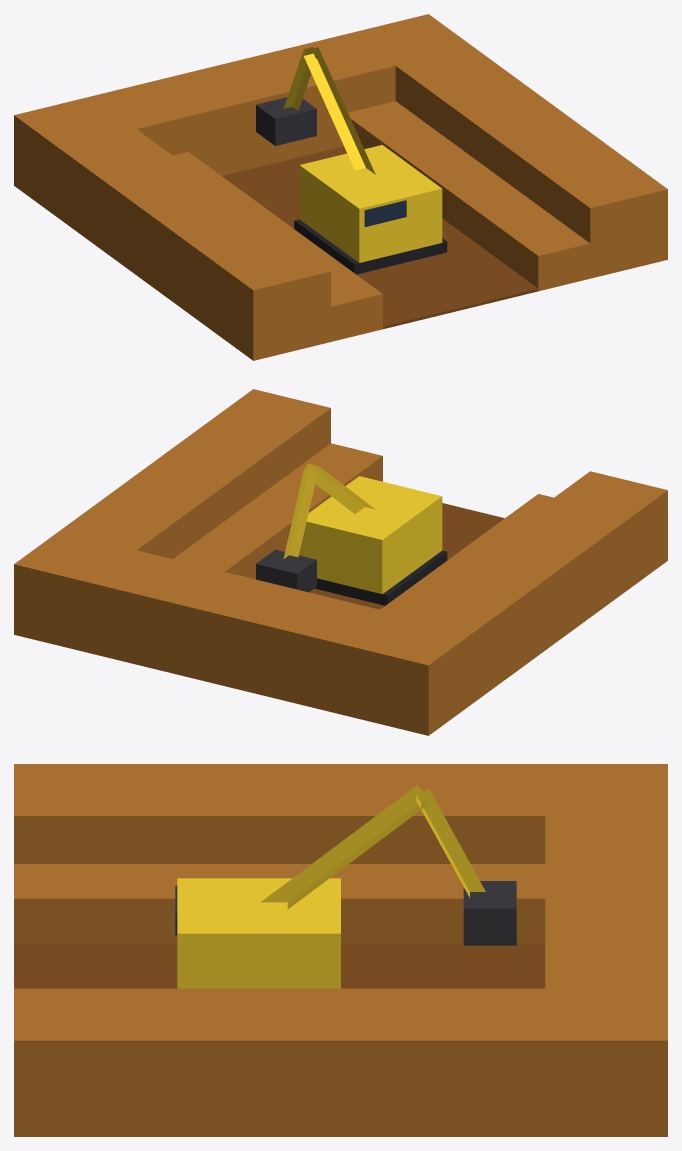
The model's file is industry_other_toffee_quarry_pit.glb.
The picture shows the model from 3 angles, top to bottom: view 1: azimuth 30°, elevation 25°; view 2: azimuth 150°, elevation 25°; view 3: azimuth 270°, elevation 25°; orthographic projection. The views are drawn at different scales.
Size of the model in its own units: 16 by 5.66 by 16.
